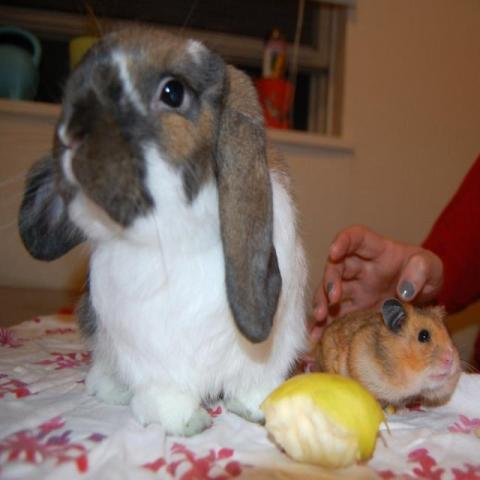small_animal: (18, 22, 313, 436)
